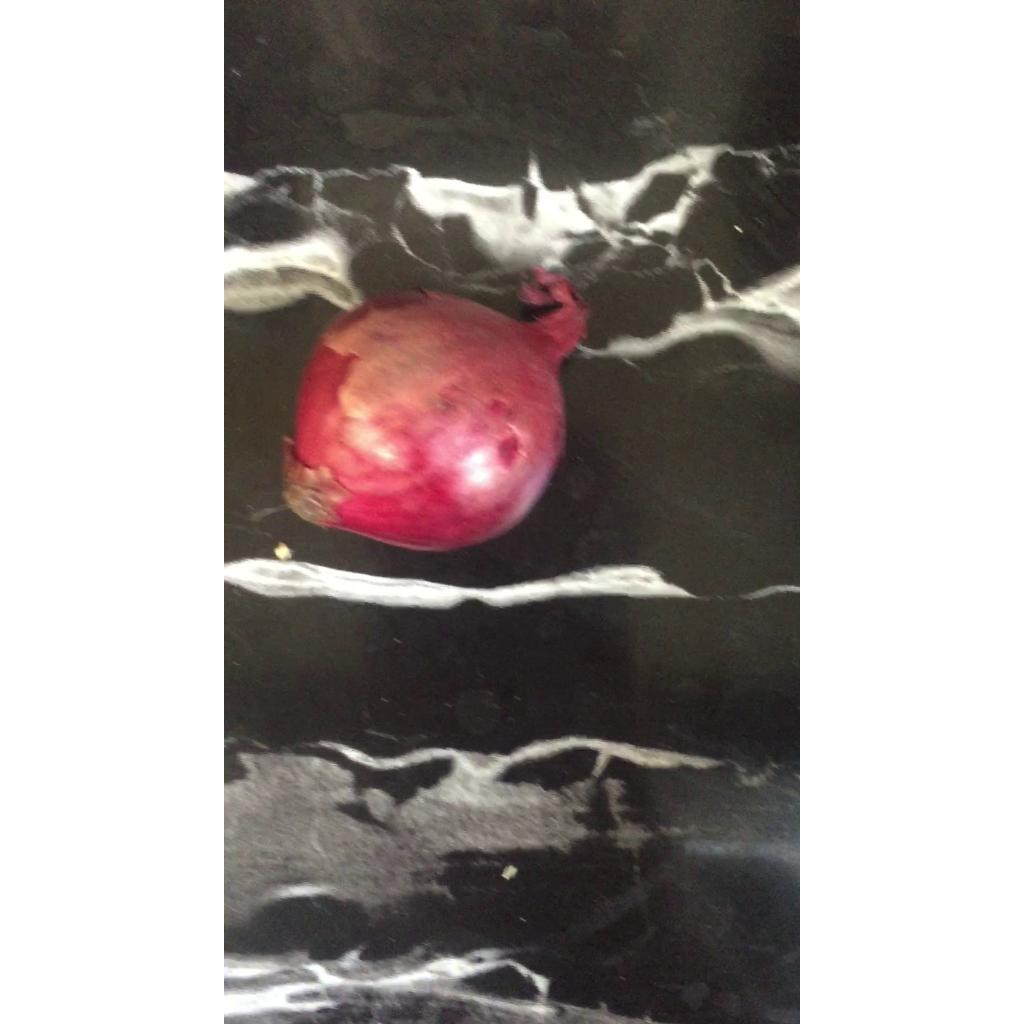Onion: (282, 266, 588, 551)
